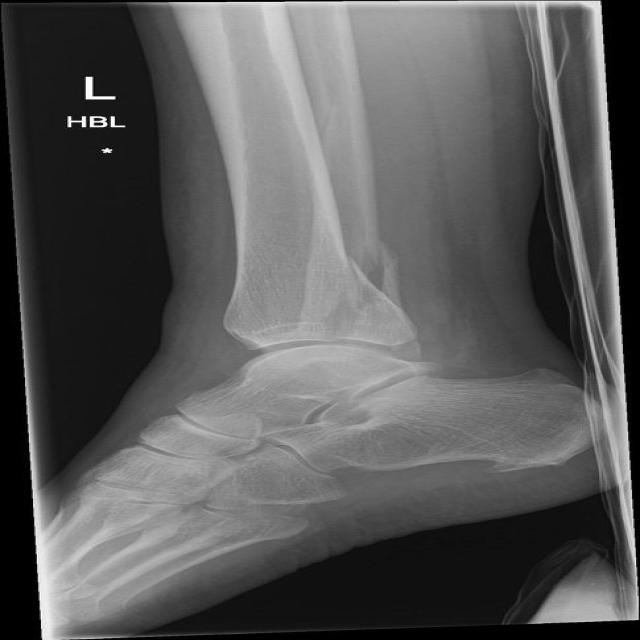fracture: (318, 244, 396, 344)
